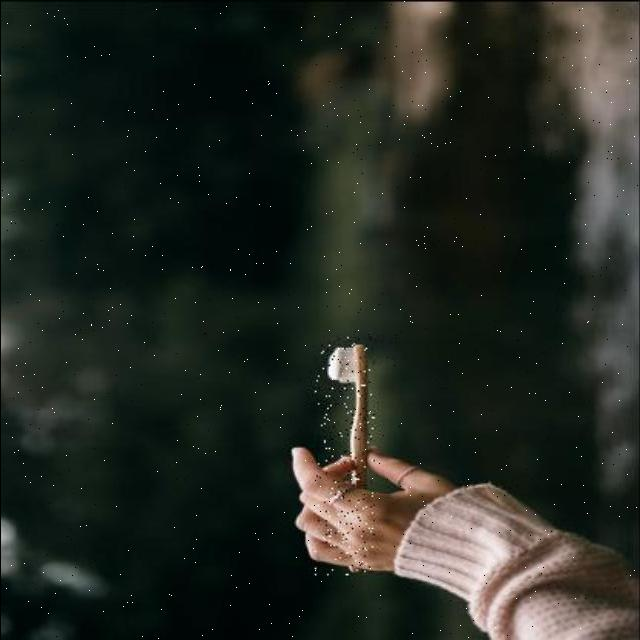toothbrush: (315, 336, 375, 574)
